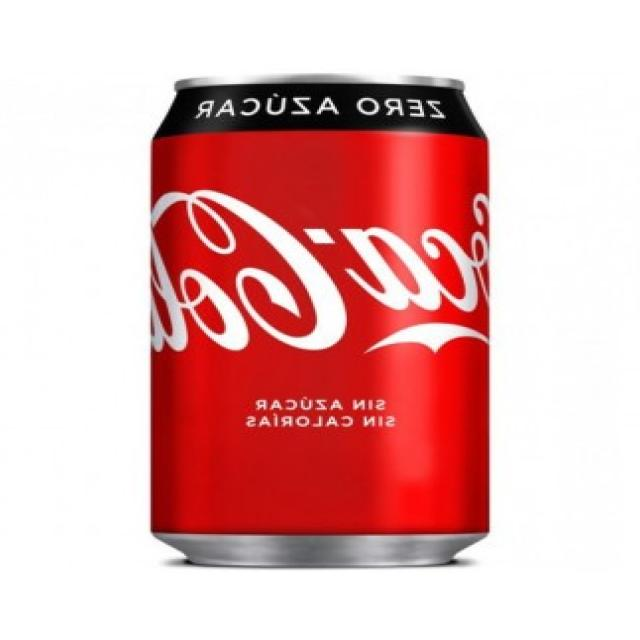coca cola: (148, 184, 489, 370)
